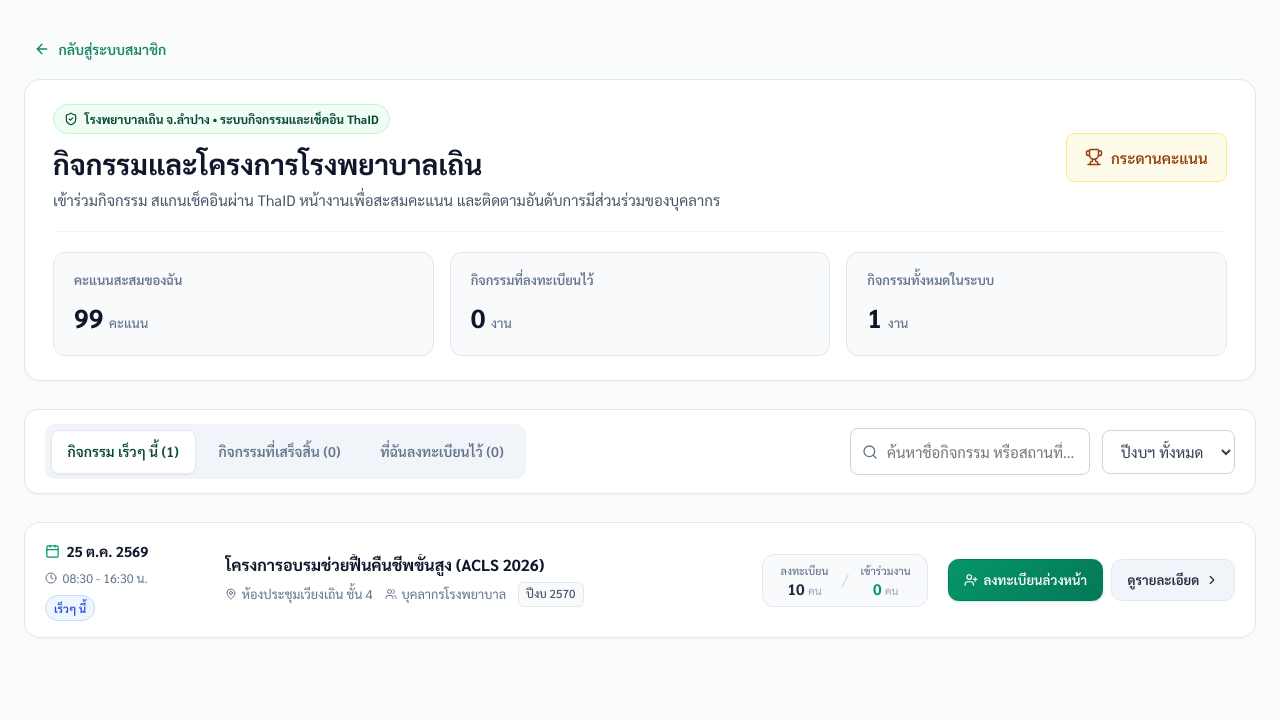
Test: EventsClient Component › renders pre-registration button next to details button and allows toggling registration
Expected: the text "ดูรายละเอียด" is shown, [1128,569,1199,591]
// Click to register
Click the button "ลงทะเบียนล่วงหน้า" at (1026, 580), box [948,559,1103,601]
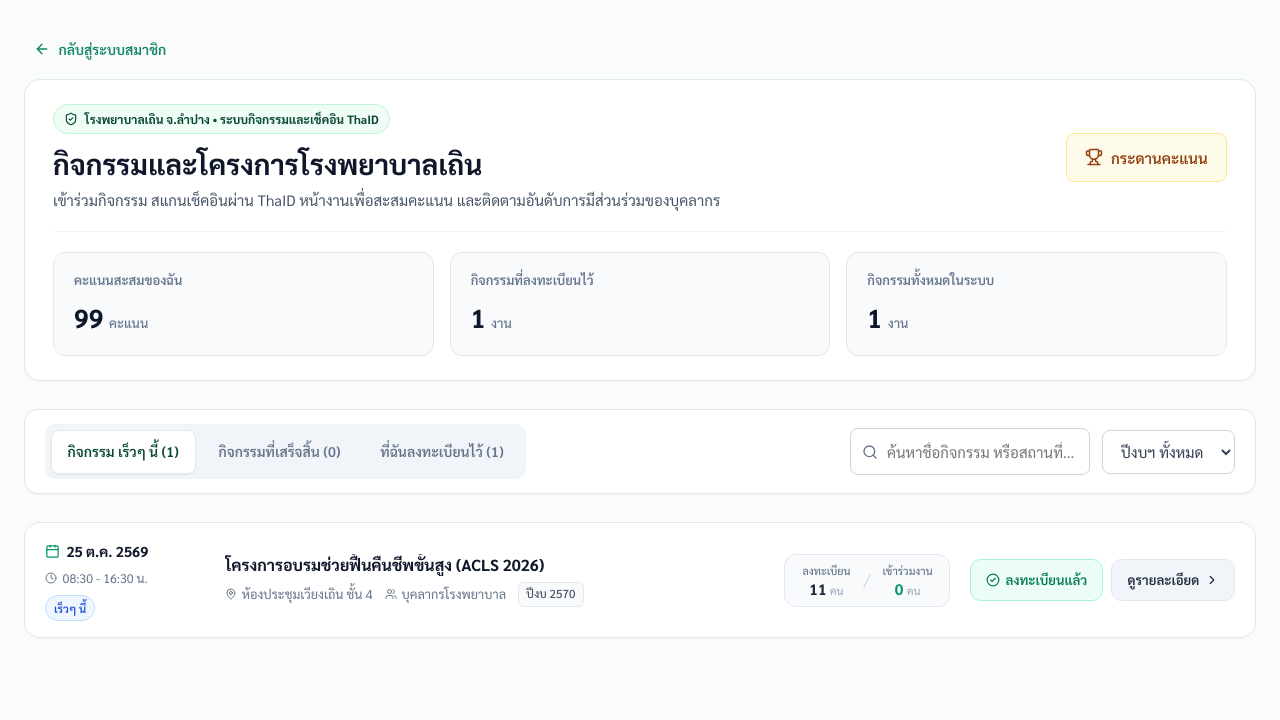
Expected: the button "ลงทะเบียนแล้ว" is shown
Expected: the text "11" is shown, [809,579,826,599]
// Click again to cancel registration
Click the button "ลงทะเบียนแล้ว" at (1036, 580), box [970,559,1103,601]
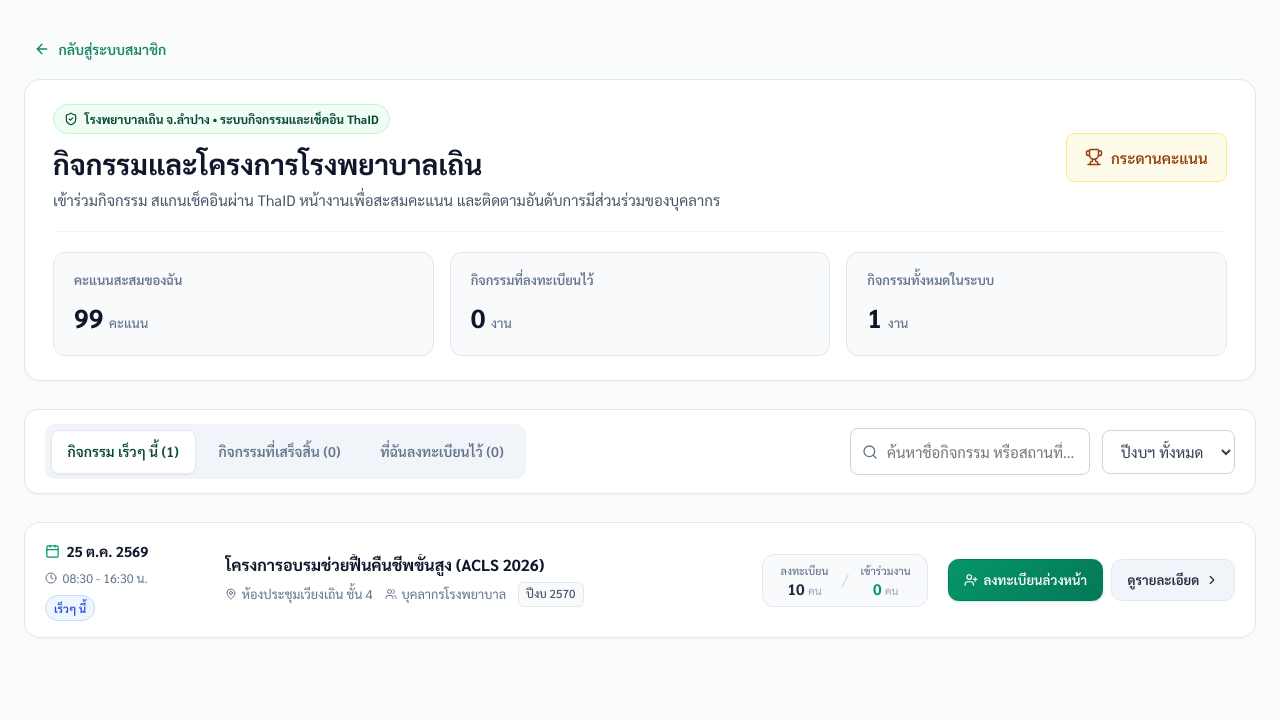
Expected: the button "ลงทะเบียนล่วงหน้า" is shown, [948,559,1103,601]
Expected: the text "10" is shown, [787,579,805,599]
